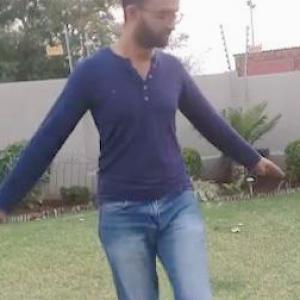land: (1, 0, 269, 292)
